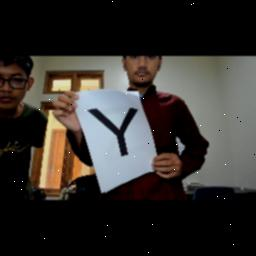y: (83, 100, 151, 164)
